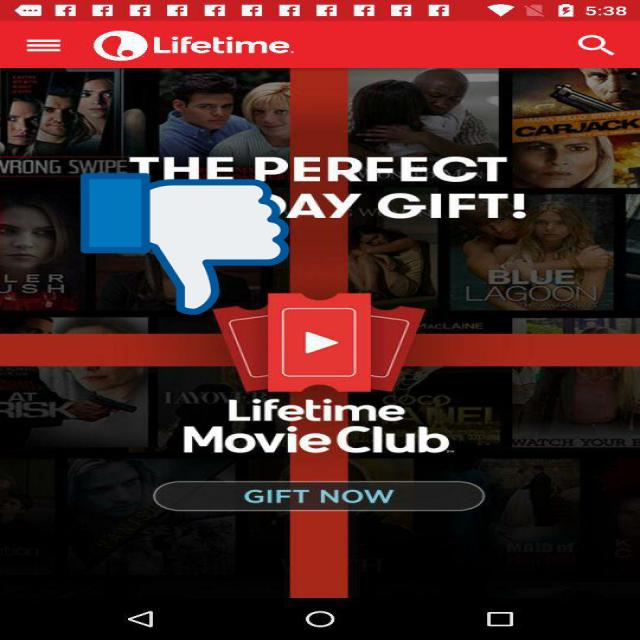obstruction: (81, 170, 289, 318)
